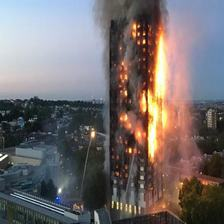fire: (108, 11, 171, 161)
